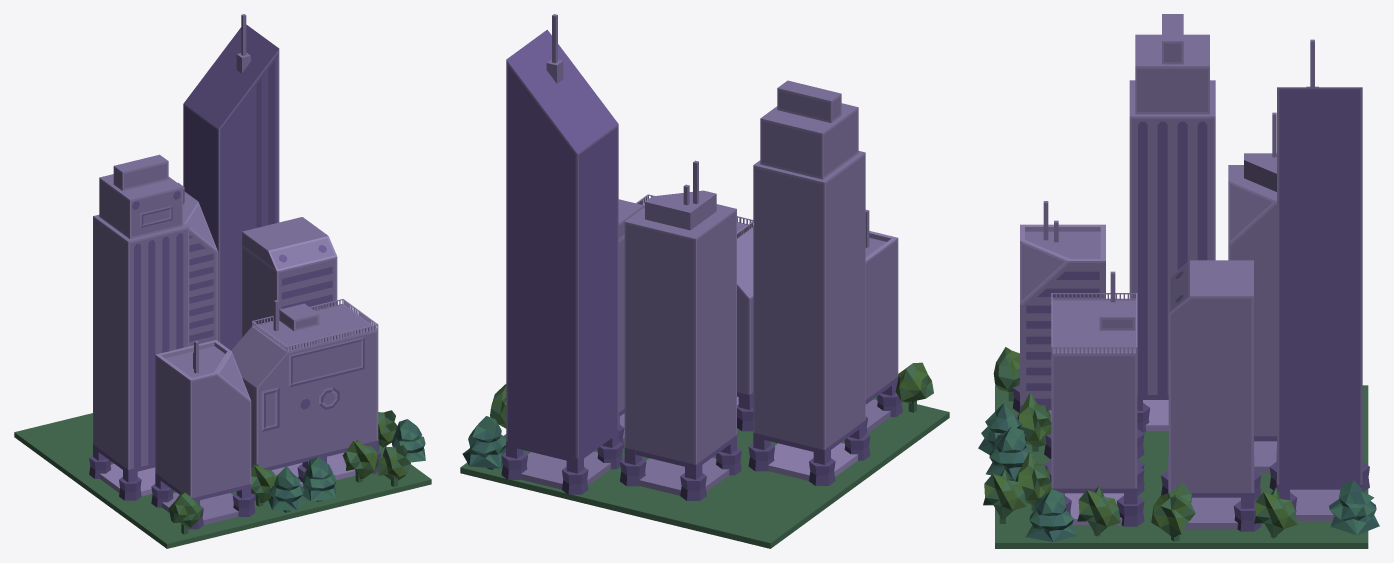
The model's file is Apartment(deneme34).fbx.
3 views of the same model, side by side, from view 1: azimuth 30°, elevation 25°; view 2: azimuth 150°, elevation 25°; view 3: azimuth 270°, elevation 25° (orthographic). The views are drawn at different scales.
Parts seen in each view (by area): view 1: Apartment2(Elevated), Apartment6(Elevated), Apartment4(Elevated), Apartment(Ground), Apartment1(Elevated), Apartment5(Elevated), Apartment3(Elevated), Apartments(SeismicIsolators); view 2: Apartment4(Elevated), Apartment2(Elevated), Apartment3(Elevated), Apartment(Ground), Apartment1(Elevated), Apartments(SeismicIsolators), Apartment6(Elevated), Apartment5(Elevated); view 3: Apartment4(Elevated), Apartment(Ground), Apartment2(Elevated), Apartment5(Elevated), Apartment6(Elevated), Apartment3(Elevated), Apartment1(Elevated), Apartments(SeismicIsolators).
Boxes of the visible parts, left/top/right/bottom form: Apartment2(Elevated): left=93, top=154, right=189, bottom=496; Apartment6(Elevated): left=231, top=299, right=378, bottom=486; Apartment4(Elevated): left=183, top=14, right=279, bottom=350; Apartment(Ground): left=14, top=410, right=431, bottom=548; Apartment1(Elevated): left=155, top=340, right=251, bottom=524; Apartment5(Elevated): left=242, top=217, right=337, bottom=337; Apartment3(Elevated): left=178, top=182, right=218, bottom=346; Apartments(SeismicIsolators): left=89, top=450, right=380, bottom=529; Apartment4(Elevated): left=506, top=14, right=618, bottom=489; Apartment2(Elevated): left=753, top=80, right=865, bottom=480; Apartment3(Elevated): left=624, top=160, right=736, bottom=495; Apartment(Ground): left=460, top=362, right=949, bottom=548; Apartment1(Elevated): left=865, top=209, right=898, bottom=433; Apartments(SeismicIsolators): left=501, top=393, right=902, bottom=500; Apartment6(Elevated): left=636, top=194, right=753, bottom=409; Apartment5(Elevated): left=618, top=199, right=644, bottom=443; Apartment4(Elevated): left=1276, top=39, right=1362, bottom=520; Apartment(Ground): left=978, top=347, right=1379, bottom=548; Apartment2(Elevated): left=1129, top=14, right=1215, bottom=431; Apartment5(Elevated): left=1168, top=260, right=1254, bottom=529; Apartment6(Elevated): left=1051, top=271, right=1137, bottom=524; Apartment3(Elevated): left=1228, top=112, right=1276, bottom=472; Apartment1(Elevated): left=1020, top=201, right=1105, bottom=421; Apartments(SeismicIsolators): left=1012, top=385, right=1369, bottom=531.
Size of the model in its own units: 185 by 244 by 188.
